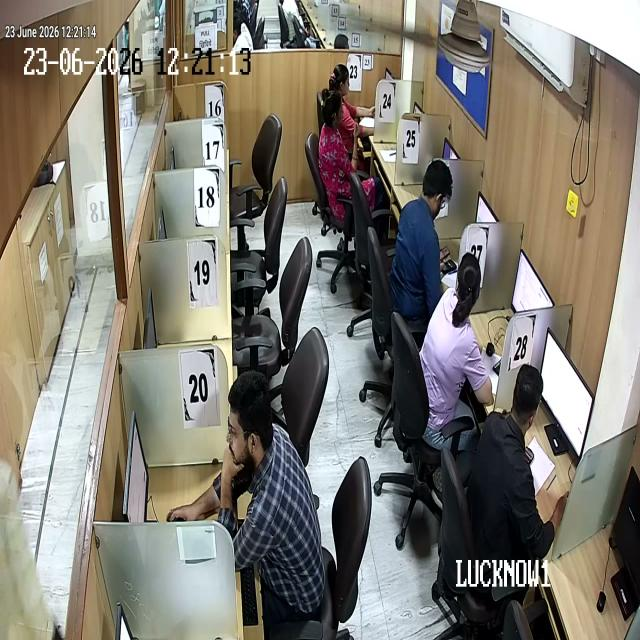phone: (438, 242, 458, 260)
